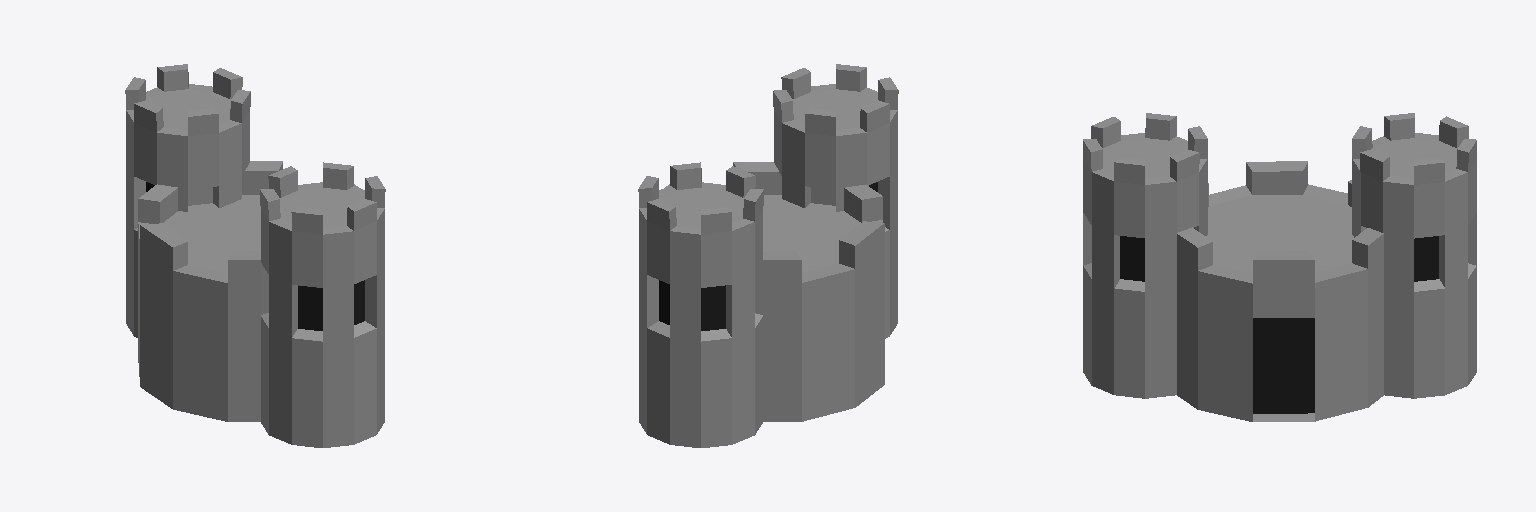
3 views of the same model, side by side, from view 1: azimuth 30°, elevation 25°; view 2: azimuth 150°, elevation 25°; view 3: azimuth 270°, elevation 25° (orthographic).
Parts seen in each view (by area): view 1: Cylinder; view 2: Cylinder; view 3: Cylinder.
Boxes of the visible parts, box(x1,y1,x2,y2) form: Cylinder: box(125, 64, 385, 447); Cylinder: box(638, 64, 898, 447); Cylinder: box(1083, 113, 1476, 421).
Bounding box in the file's own units: 0.5947 × 0.6531 × 1.
1 materials, 1 textured.